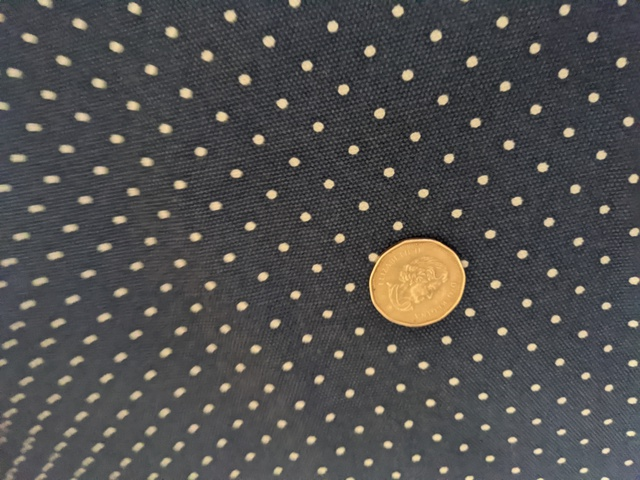loonie: (359, 224, 476, 335)
